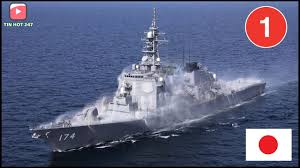tau_muctieu: (36, 36, 267, 142)
